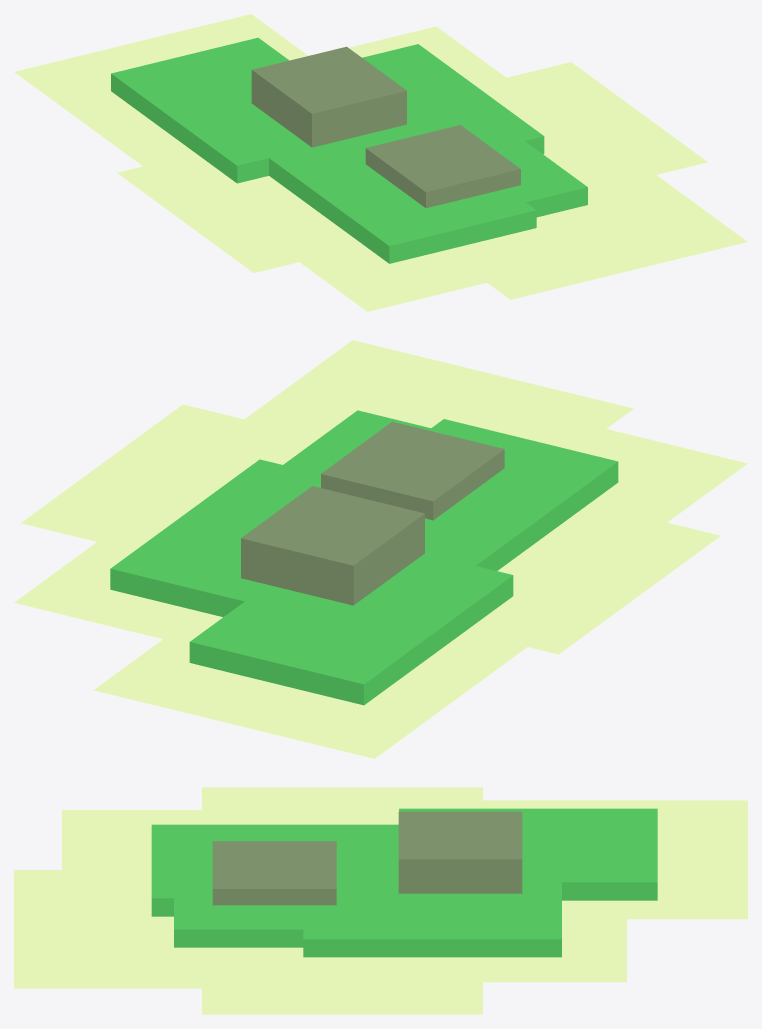
The picture shows the model from 3 angles, top to bottom: view 1: azimuth 30°, elevation 25°; view 2: azimuth 150°, elevation 25°; view 3: azimuth 270°, elevation 25°; orthographic projection. The views are drawn at different scales.
Parts seen in each view (by area): view 1: Plane (×6), Box (×6); view 2: Plane (×6), Box (×6); view 3: Plane (×6), Box (×6).
Part boxes in pixels (box(x1,y1,x2,y2)): Plane (×6): box(14, 14, 747, 311); Box (×6): box(111, 37, 587, 263); Plane (×6): box(14, 340, 747, 758); Box (×6): box(110, 410, 618, 705); Plane (×6): box(14, 787, 747, 1014); Box (×6): box(151, 808, 657, 957).
Size of the model in its own units: 1.91 by 0.251 by 2.61.
